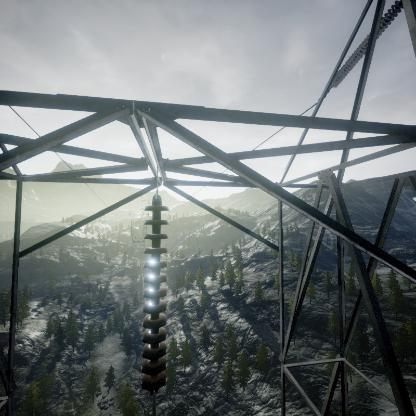insulator: (329, 0, 404, 89), (139, 192, 169, 394)
